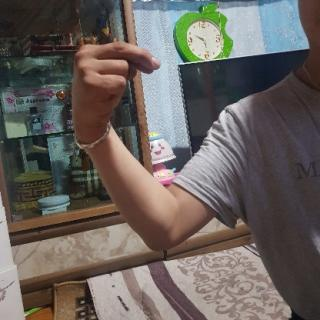ZAY: (69, 40, 164, 145)
